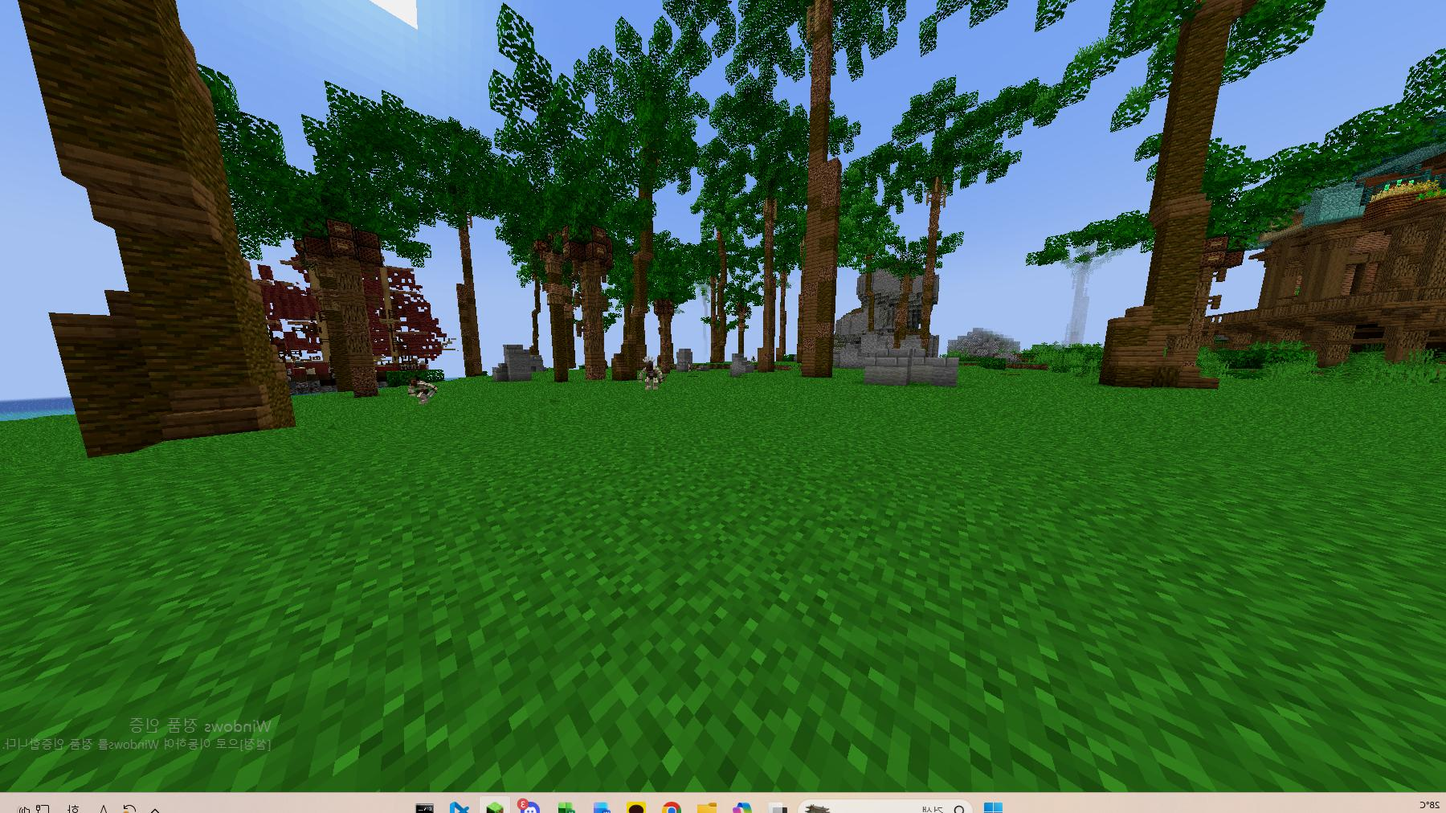bow_indian: (632, 353, 667, 404)
